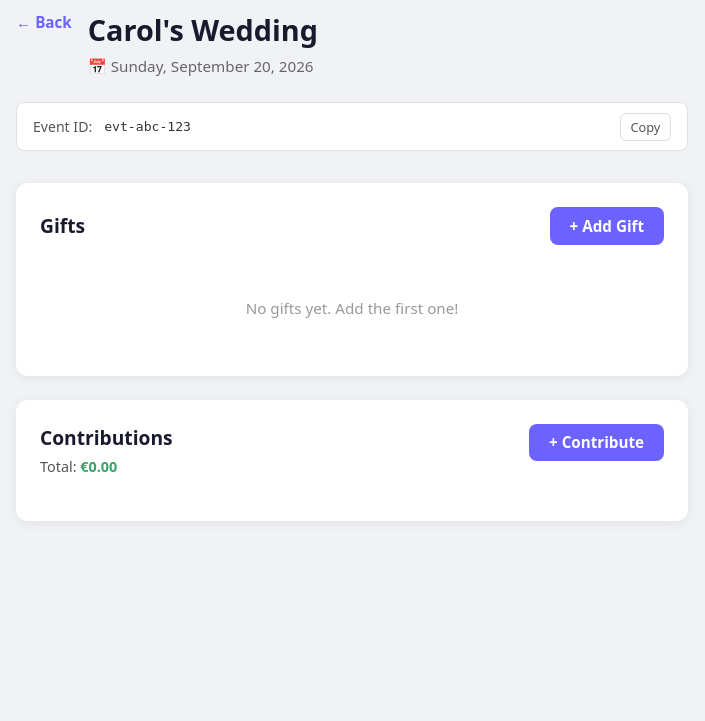
Test case: Event Page — contributions › adds a contribution and updates the total
Click the button with test id "EventPage__contributeBtn" at (597, 443), box [529, 424, 664, 462]
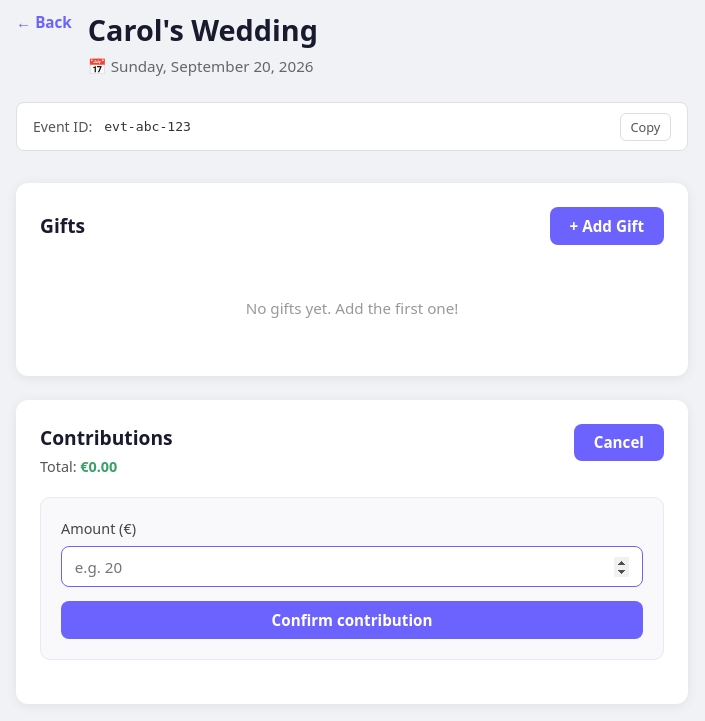
Type "25" into the number field with test id "EventPage__contributeAmountInput" at (352, 567), box [61, 546, 643, 587]
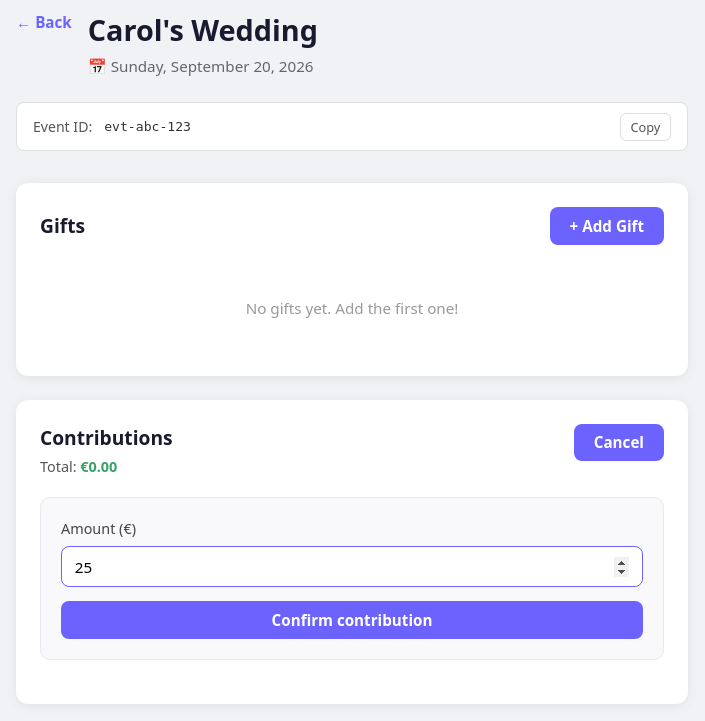
Click the button with test id "EventPage__contributeSubmit" at (352, 620), box [61, 601, 643, 639]
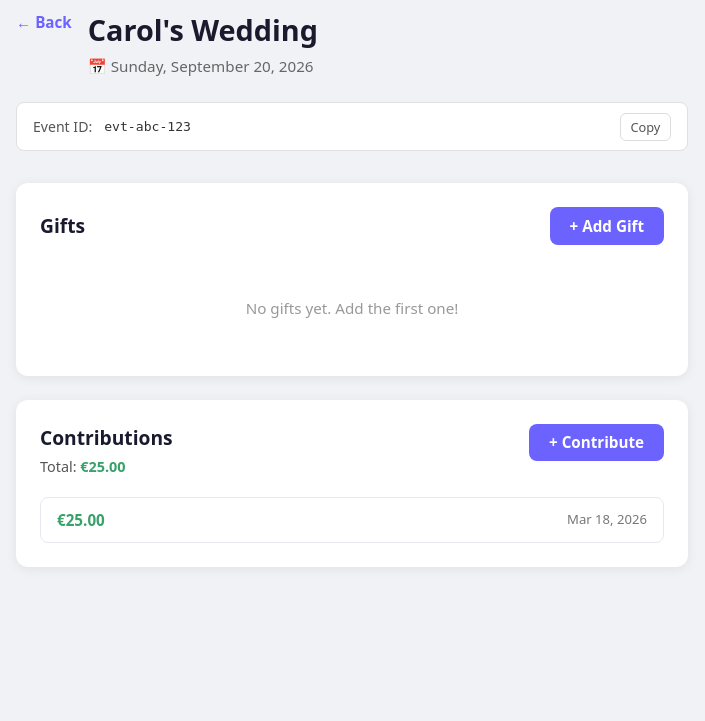
Now the text with test id "EventPage__contributionsTotal" reads "€25.00", box [80, 457, 125, 476]
Now the number of list items with test id "EventPage__contributionItem" is 1, box [40, 497, 664, 543]
Now the text with test id "EventPage__contributionItem" reads "€25.00", box [57, 509, 105, 532]
